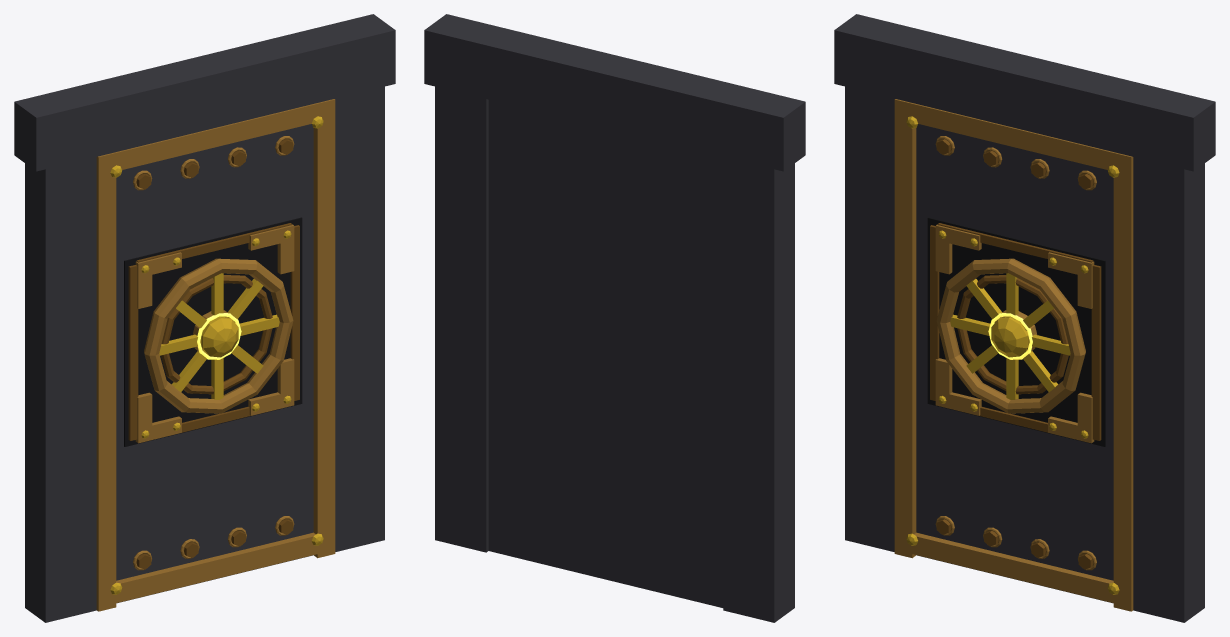
The model's file is SM_Door_DwarvenVault_08.glb.
3 renders of one model, left to right at view 1: azimuth 30°, elevation 25°; view 2: azimuth 150°, elevation 25°; view 3: azimuth 330°, elevation 25°, orthographic.
Visible parts, largest first — view 1: SM_Door_DwarvenVault_08_Slab, SM_Door_DwarvenVault_08_Frame, SM_Door_DwarvenVault_08_Lintel, SM_Door_DwarvenVault_08_JambR, SM_Door_DwarvenVault_08_Panel, SM_Door_DwarvenVault_08_BorderR, SM_Door_DwarvenVault_08_BorderL, SM_Door_DwarvenVault_08_WheelOuter, SM_Door_DwarvenVault_08_BorderB, SM_Door_DwarvenVault_08_BorderT, SM_Door_DwarvenVault_08_WheelMid, SM_Door_DwarvenVault_08_StepL (+14 smaller); view 2: SM_Door_DwarvenVault_08_Slab, SM_Door_DwarvenVault_08_Frame, SM_Door_DwarvenVault_08_Lintel, SM_Door_DwarvenVault_08_JambR; view 3: SM_Door_DwarvenVault_08_Slab, SM_Door_DwarvenVault_08_JambR, SM_Door_DwarvenVault_08_Lintel, SM_Door_DwarvenVault_08_Frame, SM_Door_DwarvenVault_08_Panel, SM_Door_DwarvenVault_08_BorderL, SM_Door_DwarvenVault_08_BorderR, SM_Door_DwarvenVault_08_WheelOuter, SM_Door_DwarvenVault_08_BorderB, SM_Door_DwarvenVault_08_BorderT, SM_Door_DwarvenVault_08_WheelMid, SM_Door_DwarvenVault_08_StepR (+13 smaller).
Boxes of the visible parts, x1,y1,x2,y2 form: SM_Door_DwarvenVault_08_Slab: (116,124,313,603); SM_Door_DwarvenVault_08_Frame: (25,87,96,622); SM_Door_DwarvenVault_08_Lintel: (14,14,395,171); SM_Door_DwarvenVault_08_JambR: (313,17,384,551); SM_Door_DwarvenVault_08_Panel: (124,217,302,446); SM_Door_DwarvenVault_08_BorderR: (313,99,335,558); SM_Door_DwarvenVault_08_BorderL: (96,152,116,611); SM_Door_DwarvenVault_08_WheelOuter: (144,258,293,413); SM_Door_DwarvenVault_08_BorderB: (96,532,335,607); SM_Door_DwarvenVault_08_BorderT: (96,99,335,175); SM_Door_DwarvenVault_08_WheelMid: (161,275,272,394); SM_Door_DwarvenVault_08_StepL: (128,265,138,440); SM_Door_DwarvenVault_08_Slab: (488,99,723,607); SM_Door_DwarvenVault_08_Frame: (723,87,794,622); SM_Door_DwarvenVault_08_Lintel: (424,14,805,171); SM_Door_DwarvenVault_08_JambR: (435,17,506,552); SM_Door_DwarvenVault_08_Slab: (916,124,1113,603); SM_Door_DwarvenVault_08_JambR: (1133,87,1204,622); SM_Door_DwarvenVault_08_Lintel: (834,14,1215,171); SM_Door_DwarvenVault_08_Frame: (845,17,916,551); SM_Door_DwarvenVault_08_Panel: (927,217,1105,446); SM_Door_DwarvenVault_08_BorderL: (894,99,916,558); SM_Door_DwarvenVault_08_BorderR: (1113,152,1133,611); SM_Door_DwarvenVault_08_WheelOuter: (936,258,1085,413); SM_Door_DwarvenVault_08_BorderB: (894,532,1133,607); SM_Door_DwarvenVault_08_BorderT: (896,100,1133,175); SM_Door_DwarvenVault_08_WheelMid: (957,275,1068,394); SM_Door_DwarvenVault_08_StepR: (1091,265,1101,440).
Size of the model in its own units: 1.82 by 2.46 by 0.2822.
